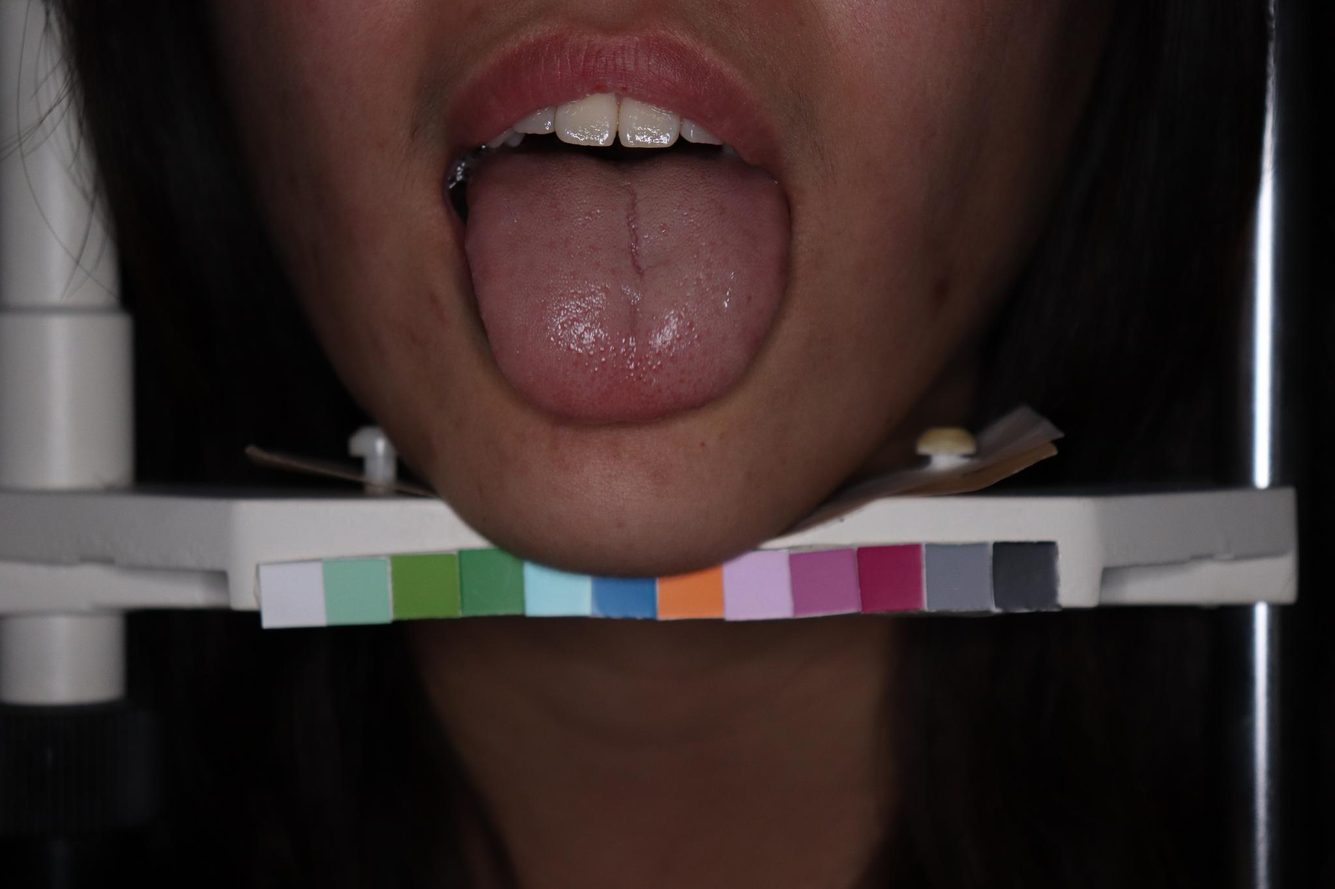baitaishe: (465, 152, 786, 424)
huataishe: (551, 304, 697, 374)
liewenshe: (623, 183, 651, 288)
